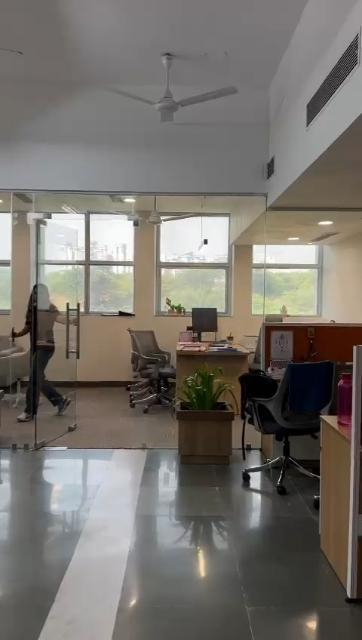floor: (2, 492, 320, 640), (0, 452, 172, 490), (87, 388, 129, 447), (130, 414, 175, 456)
moving-obj: (9, 284, 85, 430)
object: (252, 372, 326, 492), (175, 379, 239, 467), (125, 326, 175, 414), (178, 303, 226, 343)
wall: (224, 213, 252, 343), (131, 225, 159, 331), (324, 247, 362, 321), (88, 322, 126, 386), (14, 218, 32, 292)
